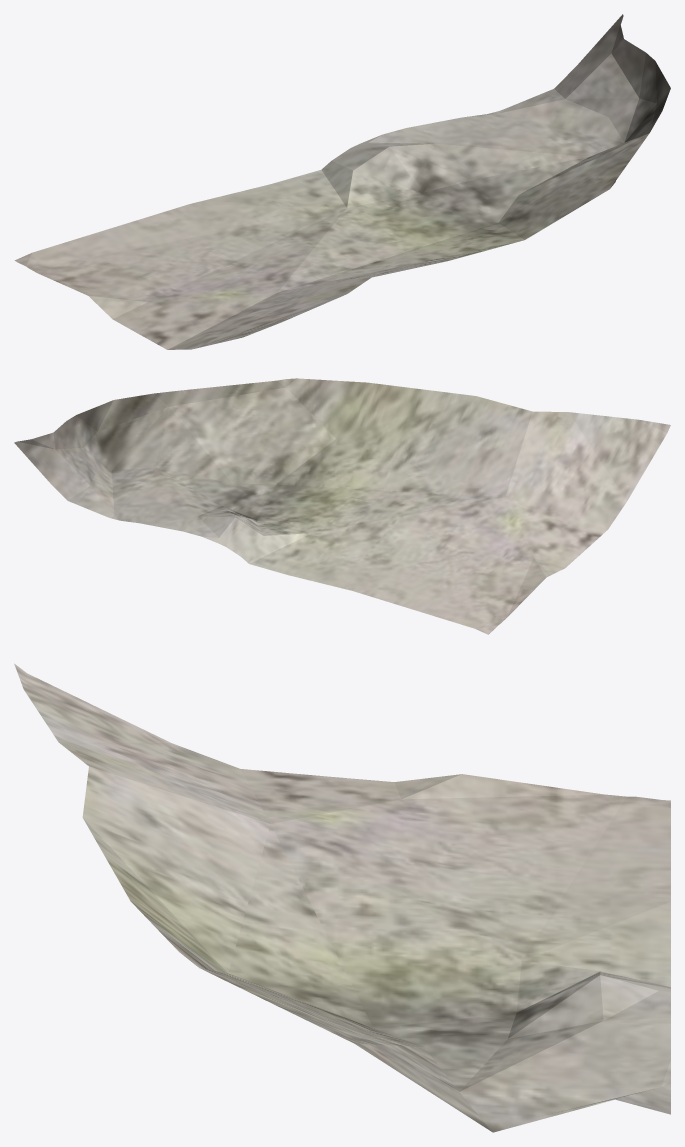
3 renders of one model, top to bottom at view 1: azimuth 30°, elevation 25°; view 2: azimuth 150°, elevation 25°; view 3: azimuth 270°, elevation 25°, orthographic. The views are drawn at different scales.
Size of the model in its own units: 5.2 by 0.7987 by 3.46.
Materials: 1 (1 with a texture image).
